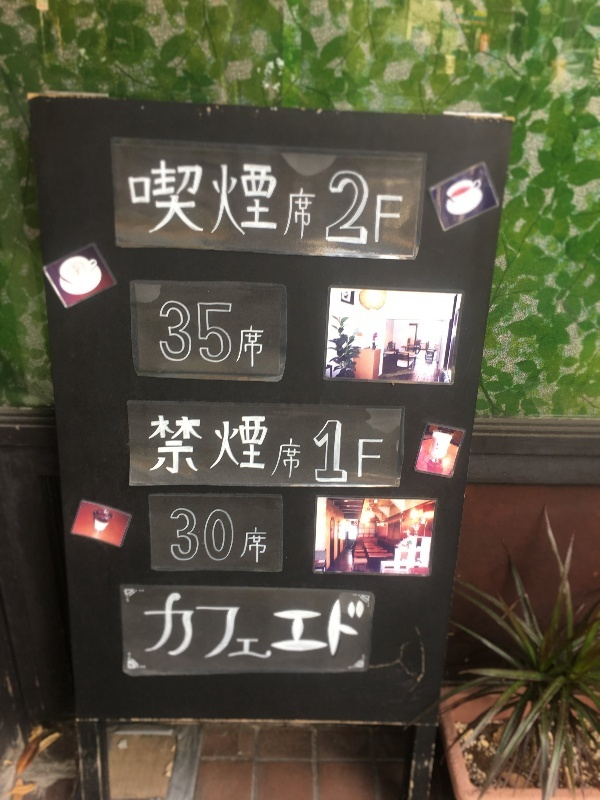text: (129, 158, 144, 241), (145, 158, 160, 241), (161, 158, 176, 241), (177, 158, 192, 241), (193, 158, 208, 241), (209, 158, 224, 241), (225, 158, 240, 241), (241, 158, 256, 241), (257, 158, 272, 241), (273, 158, 288, 241), (289, 158, 304, 241), (337, 169, 352, 246), (353, 169, 368, 246), (369, 169, 384, 246), (385, 169, 400, 246), (145, 592, 160, 662), (161, 592, 176, 662), (177, 592, 192, 662), (193, 592, 208, 662), (209, 592, 224, 662), (225, 592, 240, 662), (241, 592, 256, 662), (257, 592, 272, 662), (273, 592, 288, 662), (289, 592, 304, 662), (305, 592, 320, 662), (321, 592, 336, 662), (337, 592, 352, 662), (161, 301, 176, 369), (177, 301, 192, 369), (193, 301, 208, 369), (209, 301, 224, 369), (225, 301, 240, 369), (241, 301, 256, 369), (161, 416, 176, 480), (177, 416, 192, 480), (193, 416, 208, 480), (209, 416, 224, 480), (225, 416, 240, 480), (241, 416, 256, 480), (257, 416, 272, 480), (273, 416, 288, 480), (321, 420, 336, 482), (337, 420, 352, 482), (353, 420, 368, 482), (369, 420, 384, 482), (305, 158, 316, 241), (177, 508, 192, 564), (193, 508, 208, 564), (209, 508, 224, 564), (225, 508, 240, 564), (241, 508, 256, 564), (353, 592, 365, 662), (289, 416, 302, 480), (149, 416, 160, 480), (257, 508, 267, 564), (257, 301, 265, 369), (331, 169, 336, 246), (315, 420, 320, 482), (171, 508, 176, 564), (401, 169, 404, 246)
